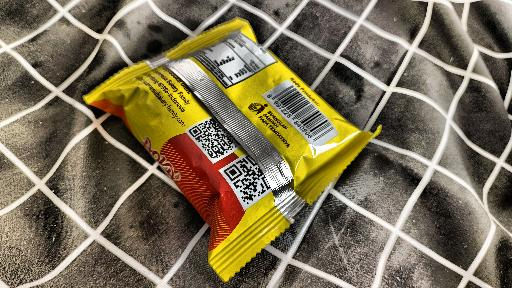momotaro: (71, 0, 387, 277)
